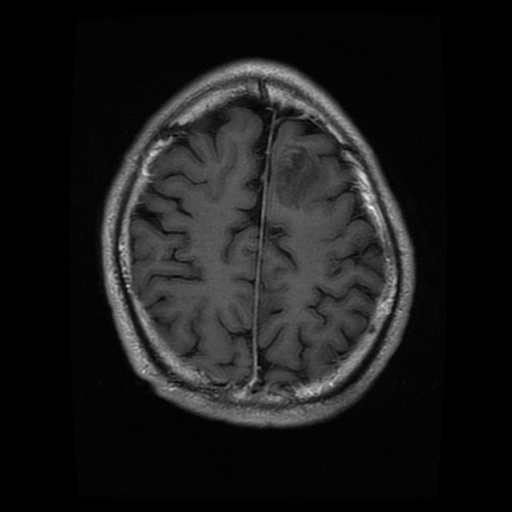glioma: (272, 144, 319, 210)
